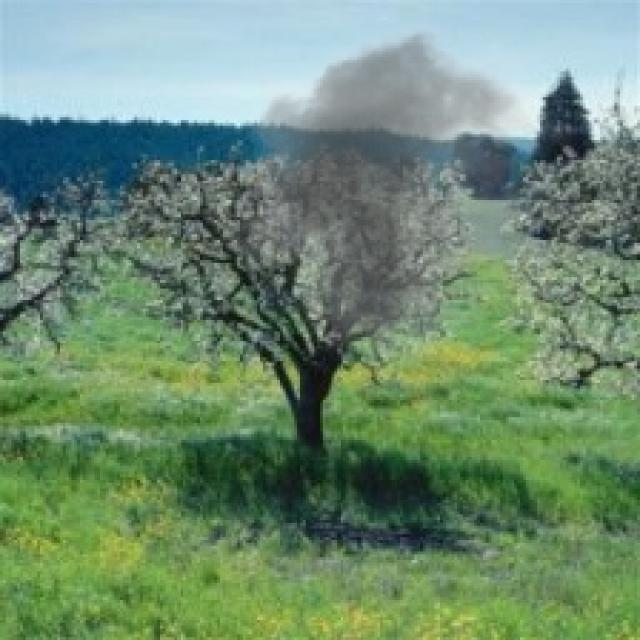smoke: (214, 6, 583, 363)
